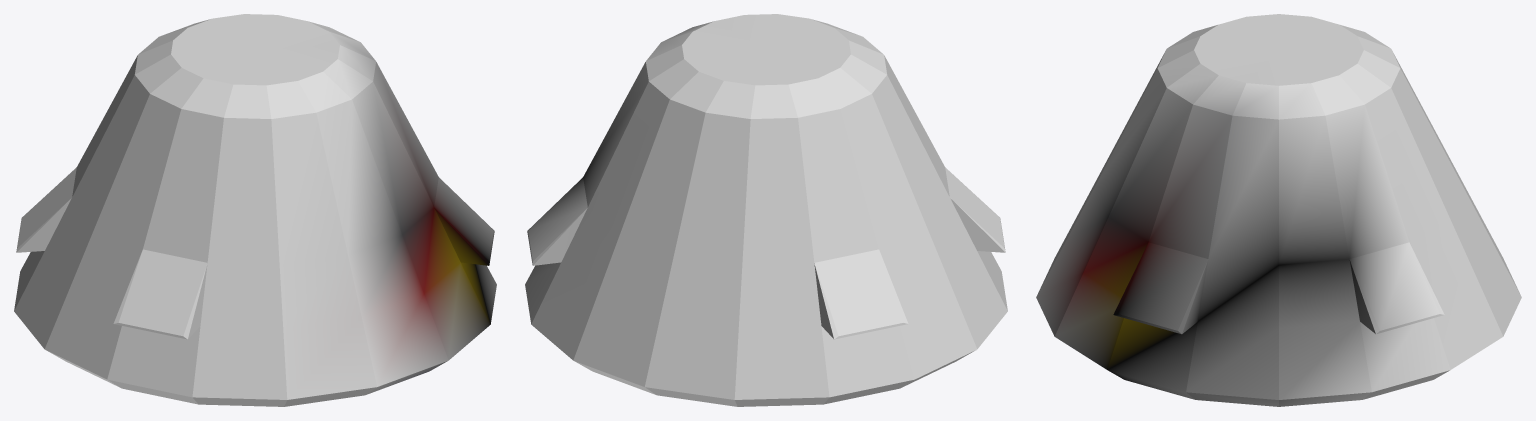
File: pod3.fbx
3 renders of one model, left to right at view 1: azimuth 30°, elevation 25°; view 2: azimuth 150°, elevation 25°; view 3: azimuth 270°, elevation 25°, orthographic.
Visible parts, largest first — view 1: MyPod; view 2: MyPod; view 3: MyPod.
Part boxes in pixels (box(x1,y1,x2,y2)): MyPod: box(14, 14, 496, 406); MyPod: box(525, 14, 1007, 406); MyPod: box(1036, 14, 1521, 406).
Size of the model in its own units: 5958 by 3582 by 5958.
